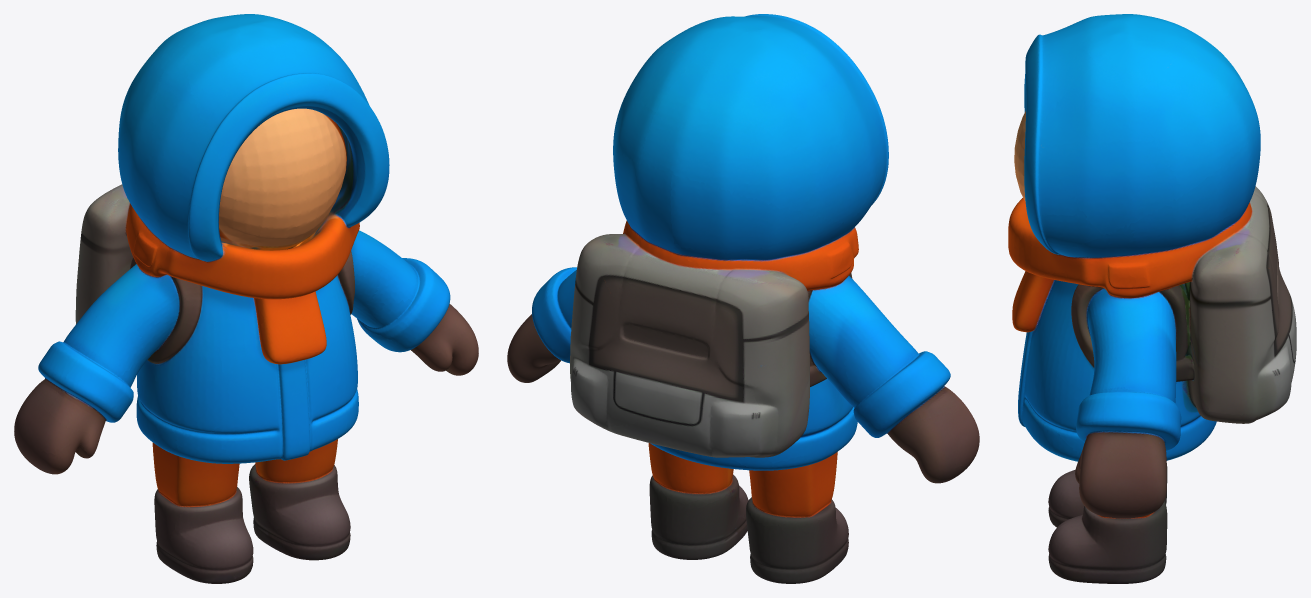
File: character_model.glb
3 renders of one model, left to right at view 1: azimuth 30°, elevation 25°; view 2: azimuth 150°, elevation 25°; view 3: azimuth 270°, elevation 25°, orthographic.
Bounding box in the file's own units: 1.69 × 1.9 × 0.9584.
Materials: 1 (1 with a texture image).
